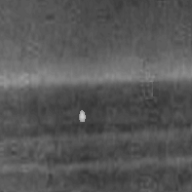Target: (77, 109, 86, 122)
